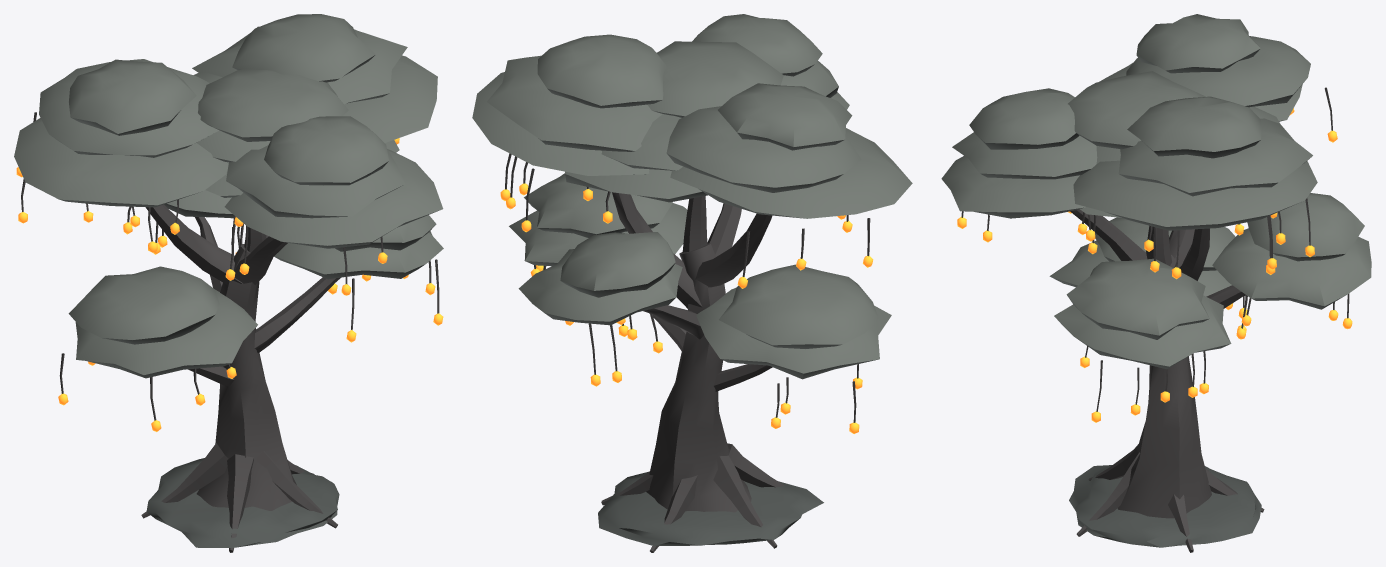
The model's file is ash_tree_a.glb.
The picture shows the model from 3 angles, left to right: view 1: azimuth 30°, elevation 25°; view 2: azimuth 150°, elevation 25°; view 3: azimuth 270°, elevation 25°; orthographic projection. The views are drawn at different scales.
Visible parts, largest first — view 1: ash_tree_a; view 2: ash_tree_a; view 3: ash_tree_a.
Part boxes in pixels (x1,y1,x2,y2): ash_tree_a: (14,14,443,552); ash_tree_a: (472,14,912,552); ash_tree_a: (941,14,1371,552).
Bounding box in the file's own units: 5.79 × 6.24 × 5.48.
